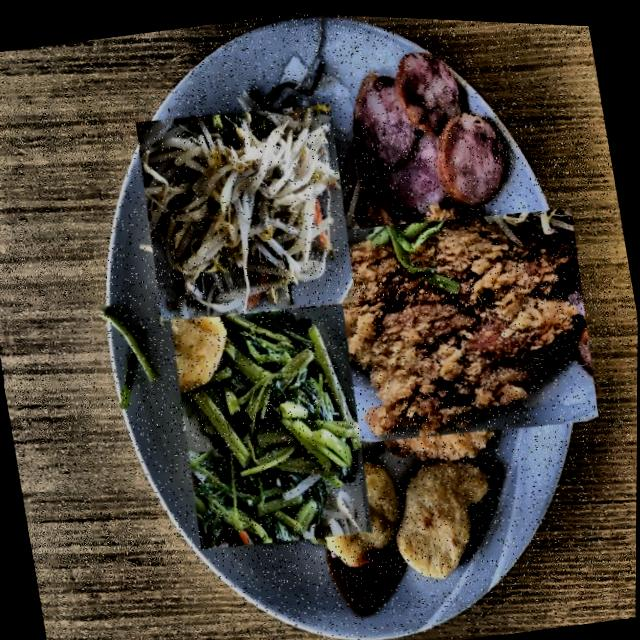Food: (310, 174, 598, 469), (160, 289, 382, 559), (126, 86, 364, 333), (322, 27, 517, 228), (306, 433, 504, 597)
